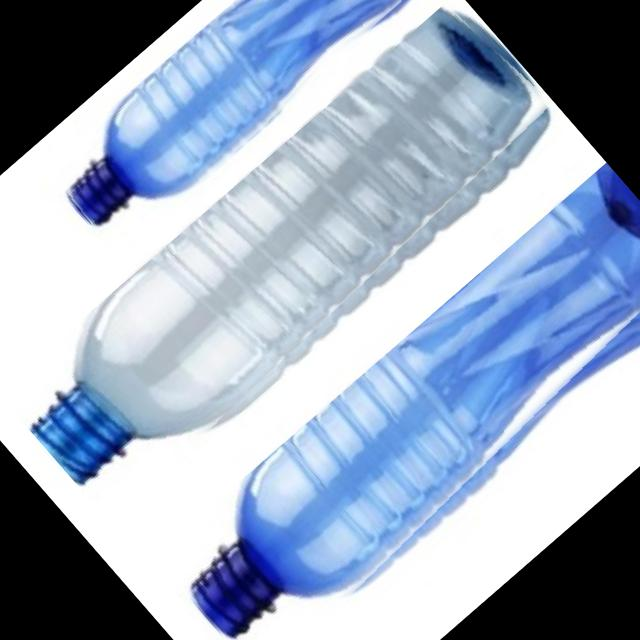plastic bottle: (0, 0, 570, 522), (152, 161, 640, 640), (40, 0, 436, 257)
